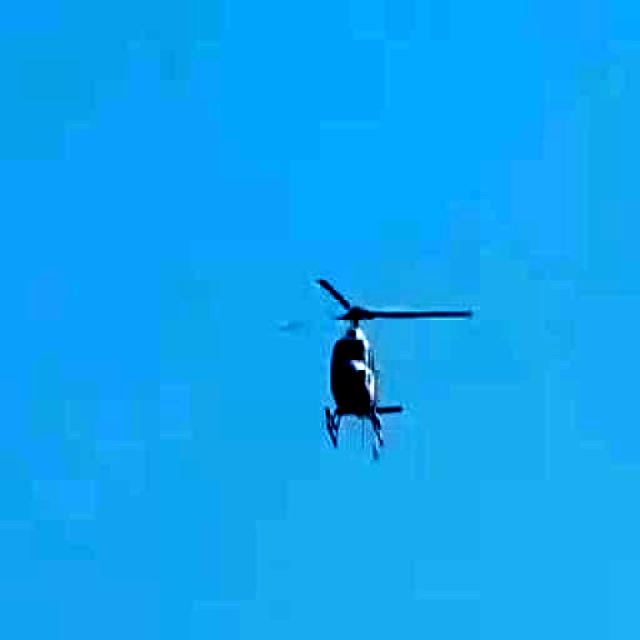drone: (236, 239, 474, 509)
